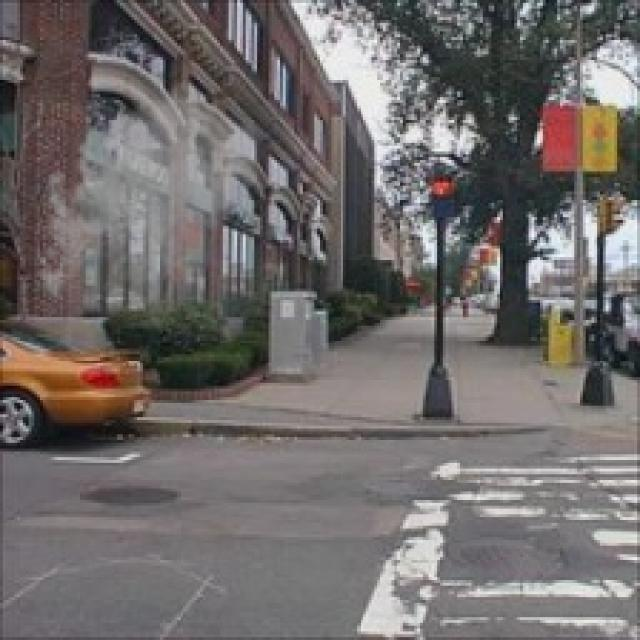Smoke: (32, 74, 268, 329)
